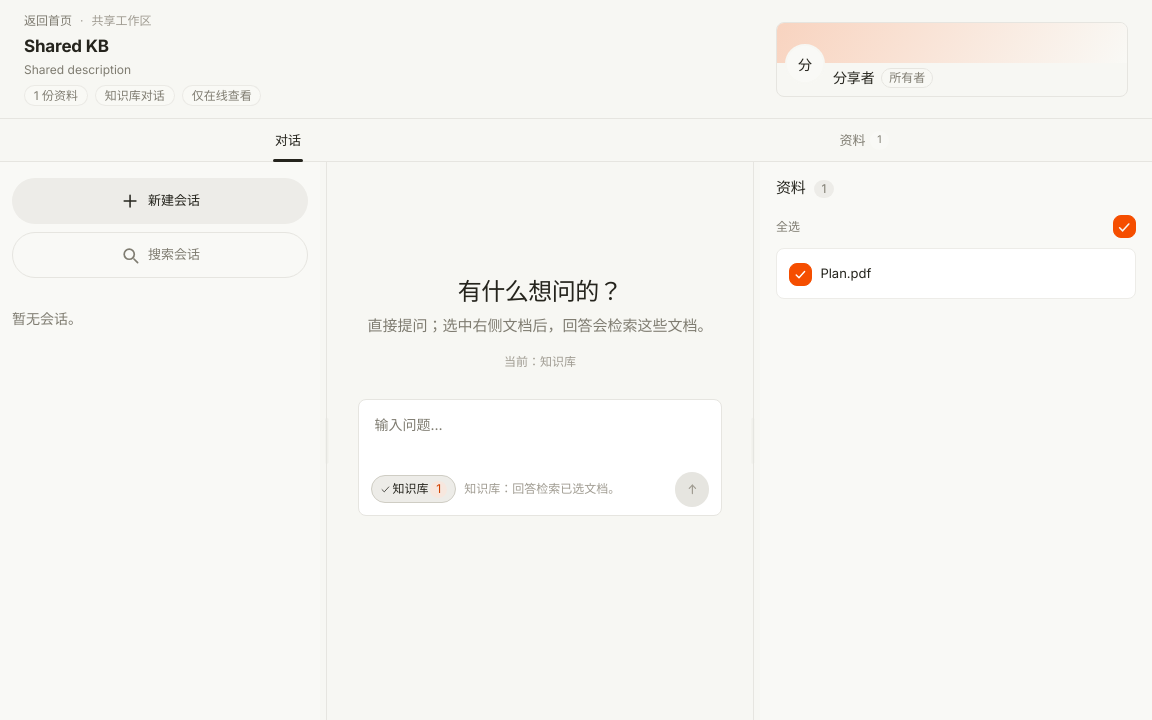
Scenario: SharedWorkspaceSurface citations › opens a citation modal from a streamed share answer without looking up a persisted message
Check: the element with test id "shared-chat-pane" is shown, box left=334, top=162, right=746, bottom=719
Type "Summarize the plan" into the text box named "工作区对话输入框" at (540, 438), box left=371, top=412, right=709, bottom=464
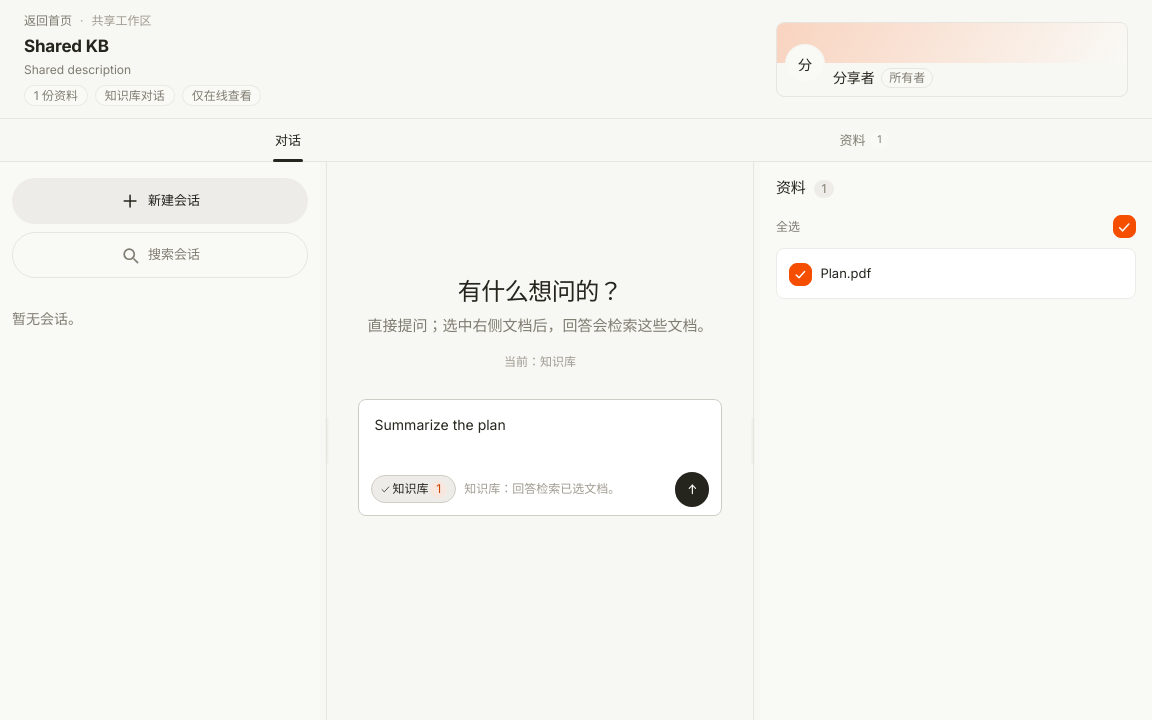
Press Enter
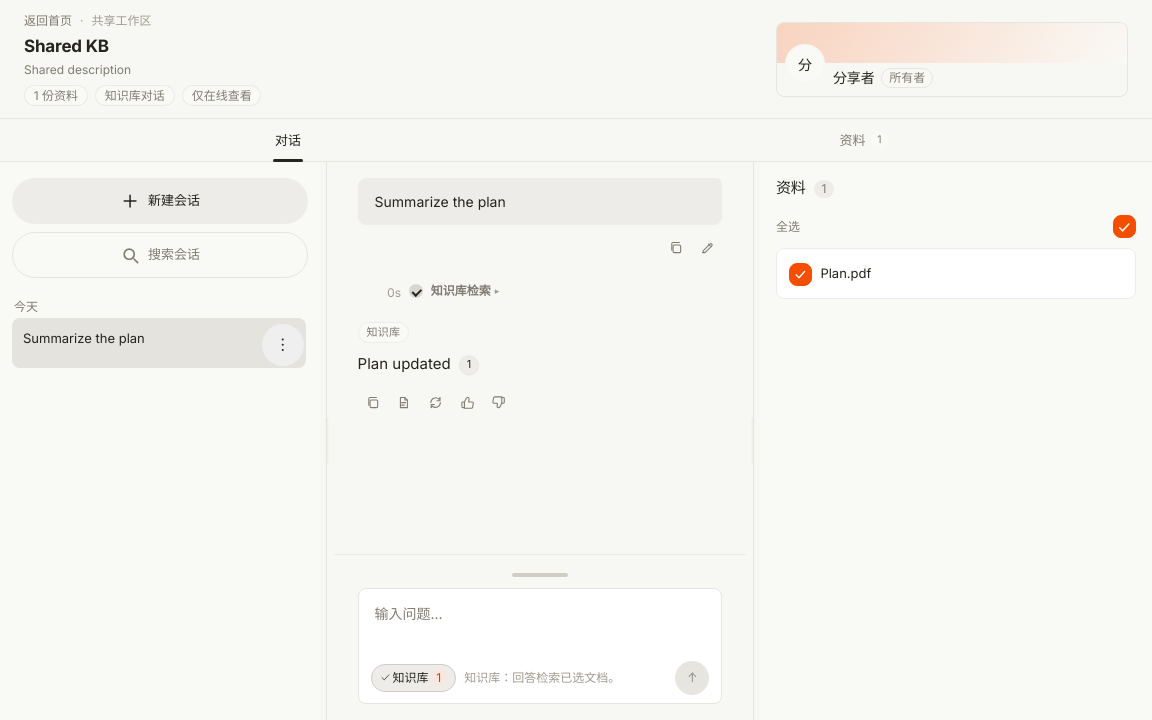
Check: the text "Plan updated" is shown, box left=358, top=354, right=451, bottom=374
Click the button named "引用 1：Plan.pdf" at (469, 365), box left=459, top=356, right=480, bottom=375
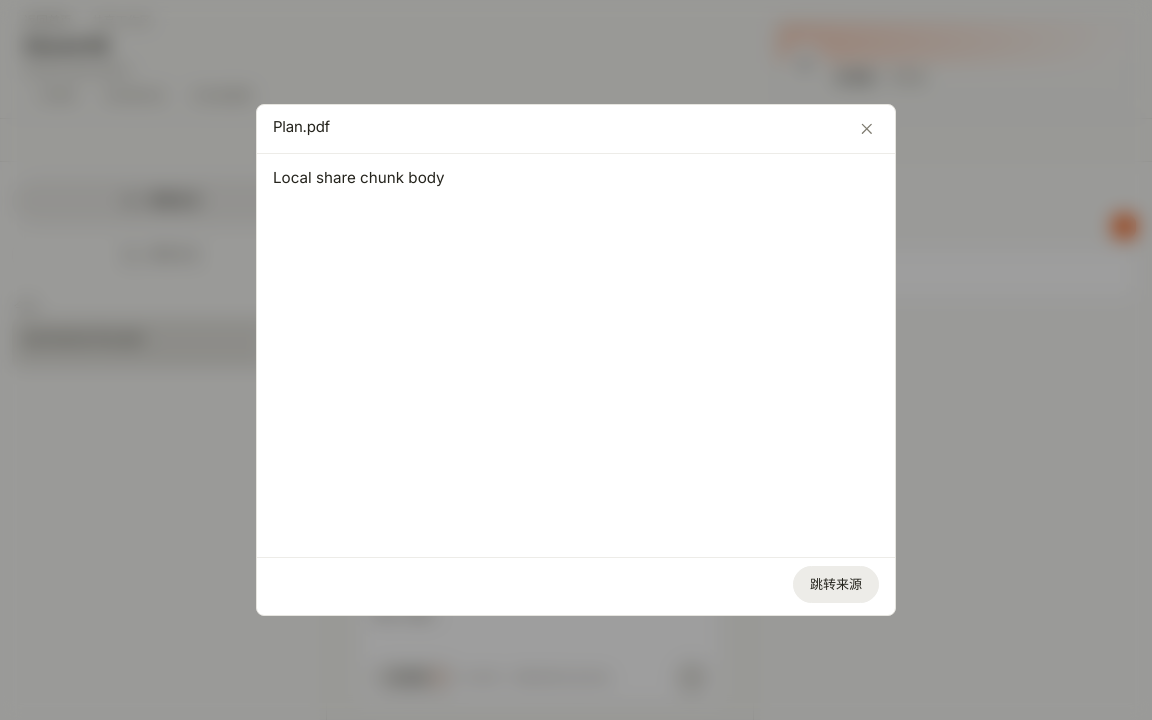
Check: the element with test id "workspace-citation-modal" is shown
Check: the text with test id "workspace-citation-body" reads "Local share chunk body", box left=273, top=168, right=445, bottom=187
